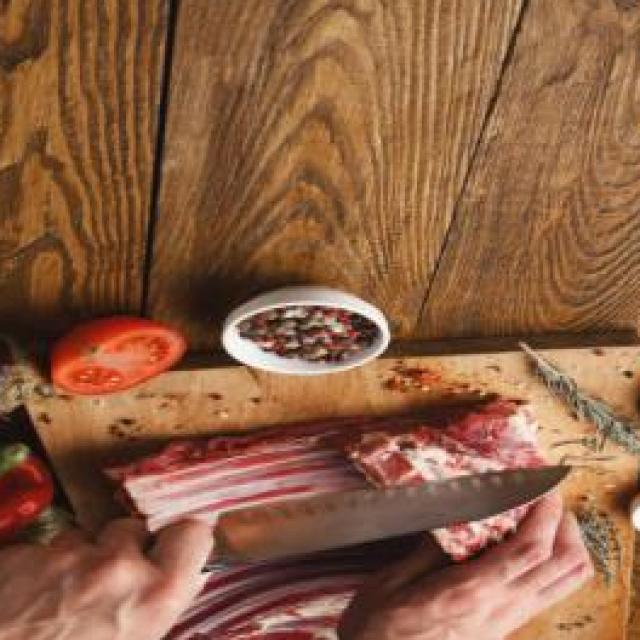knife: (63, 459, 572, 589)
